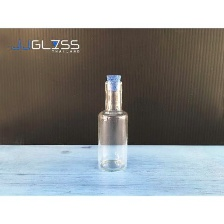bottle: (94, 78, 132, 173)
